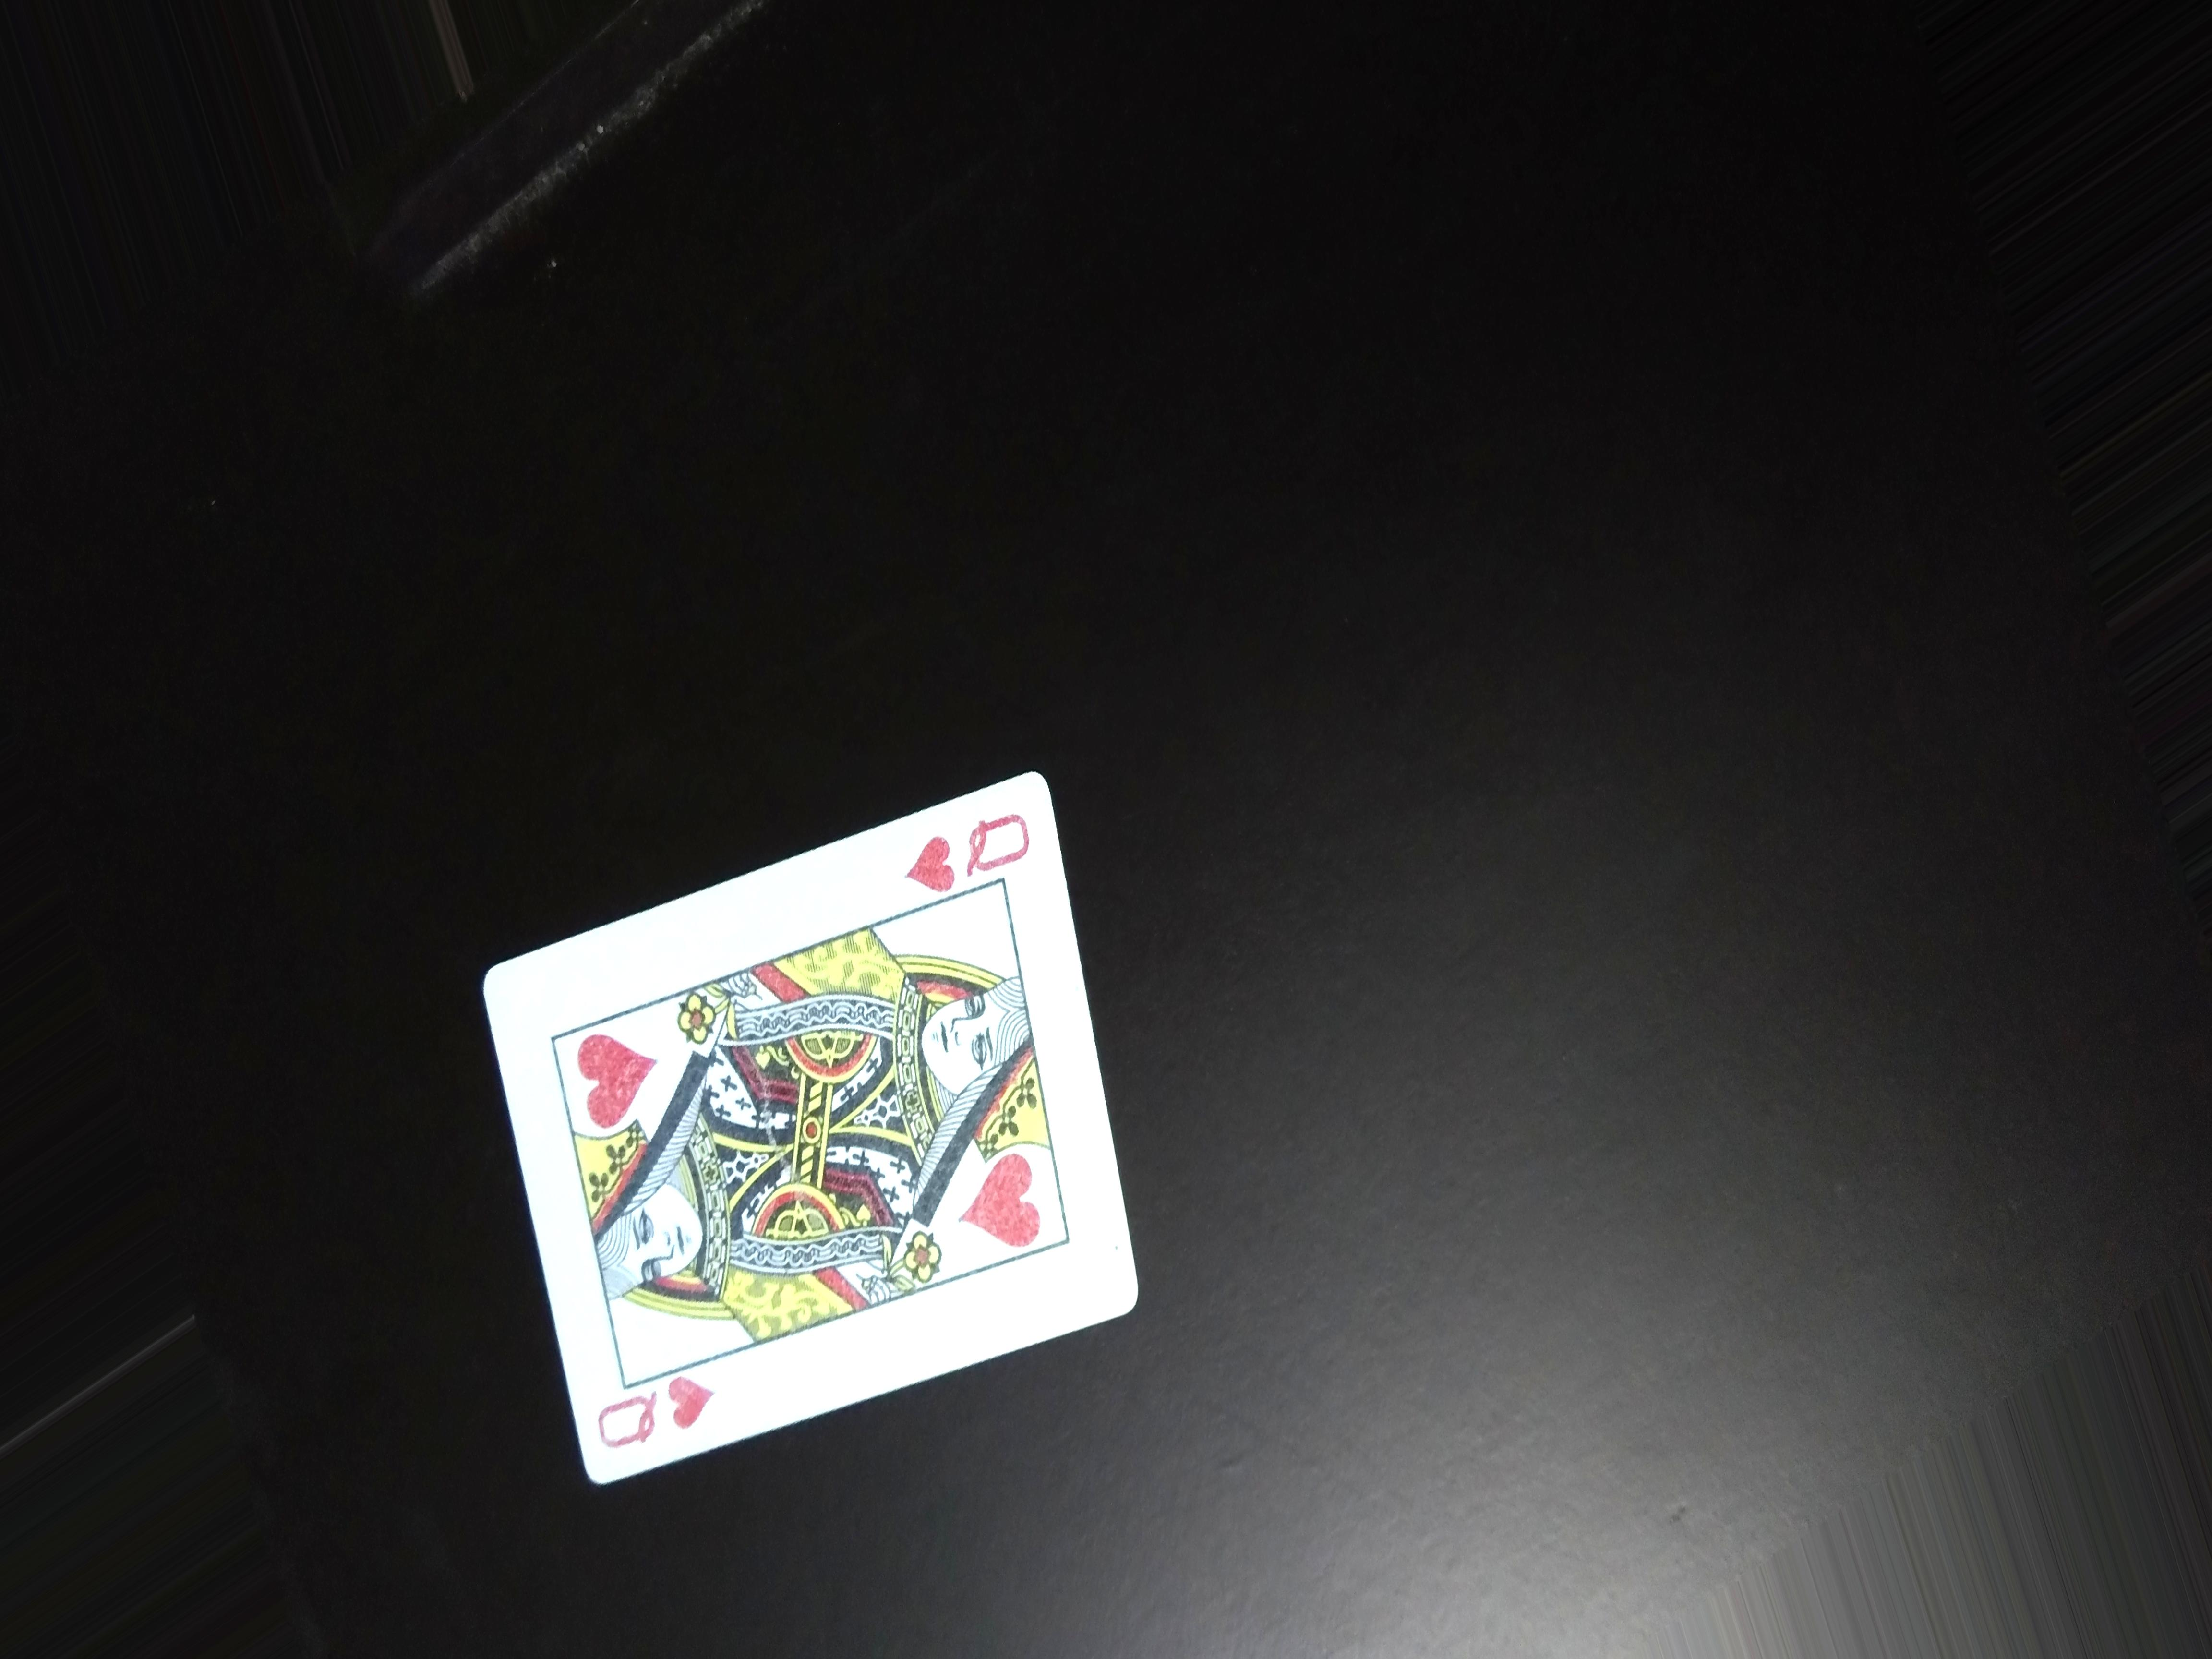QH: (904, 810, 1054, 896)
